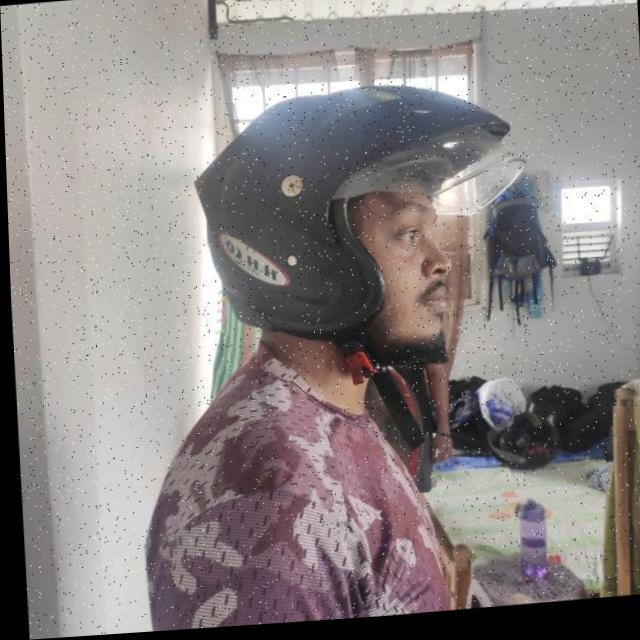helmet: (188, 77, 543, 514)
